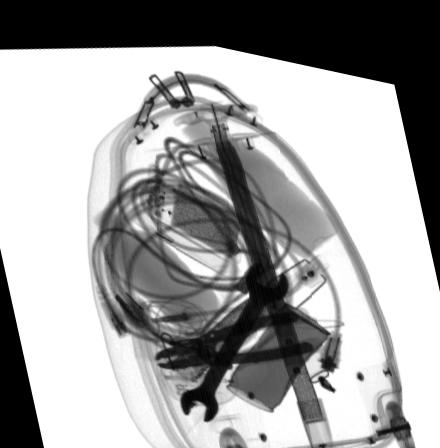Pliers: (155, 295, 314, 361)
Powerbank: (144, 161, 249, 254)
Wrench: (177, 252, 290, 414)
